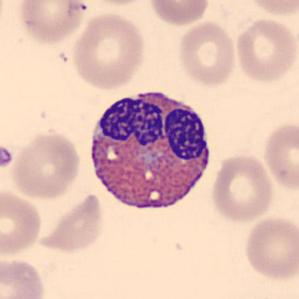Eosinophil: (84, 80, 217, 221)
Platelets: (0, 144, 14, 170)
RBC: (70, 11, 148, 92), (9, 128, 83, 201), (208, 153, 276, 224), (35, 191, 105, 254), (233, 16, 297, 84), (176, 20, 238, 88), (242, 214, 298, 282), (16, 0, 89, 45), (0, 186, 44, 259), (260, 119, 299, 193), (0, 254, 48, 299), (147, 0, 211, 27), (245, 0, 298, 18), (85, 0, 152, 7)
